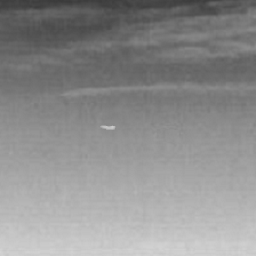Target: (98, 124, 116, 131)
